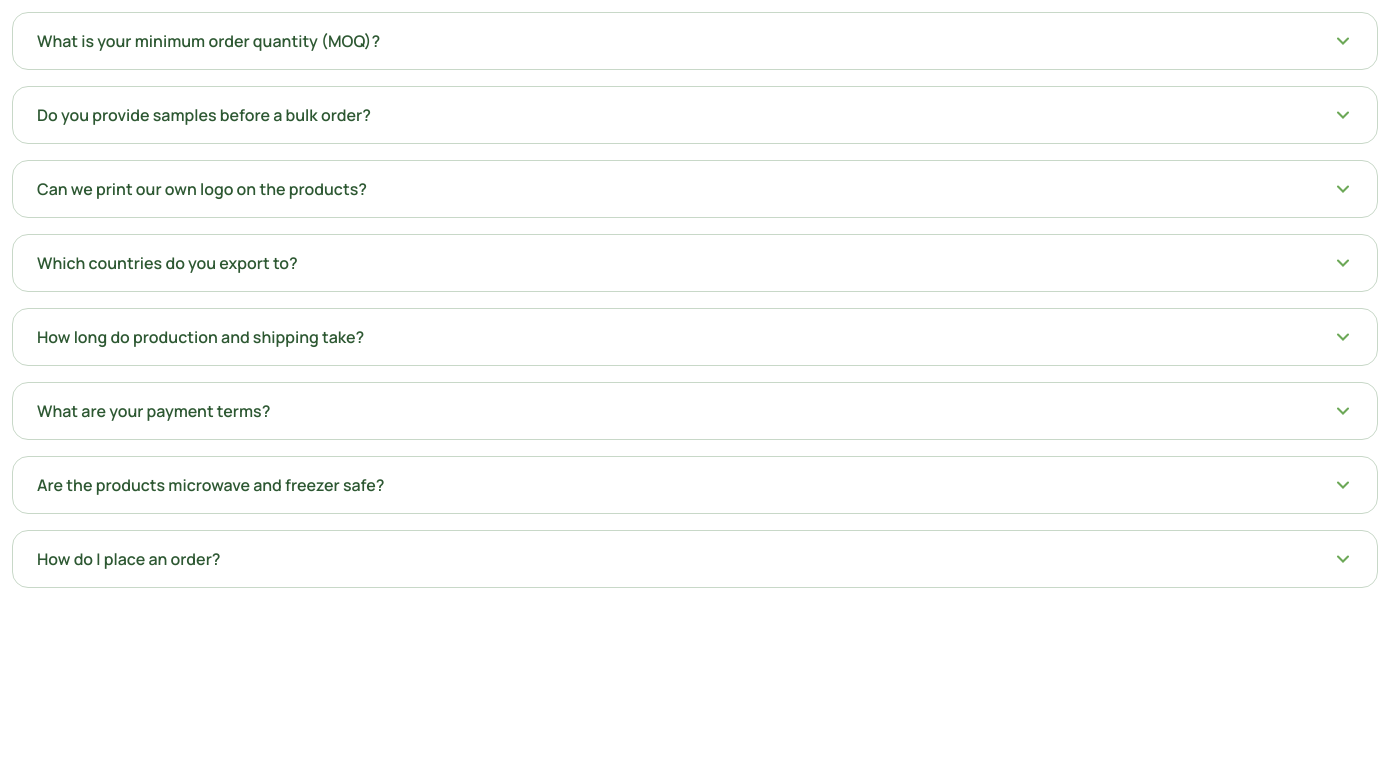
Test: FaqAccordion › reveals the answer when a question is clicked
What coordinates should you click on to do the following:
click the button "What is your minimum order quantity (MOQ)?"
I would click on:
 (209, 41)
Its box is [13,13,1377,69].
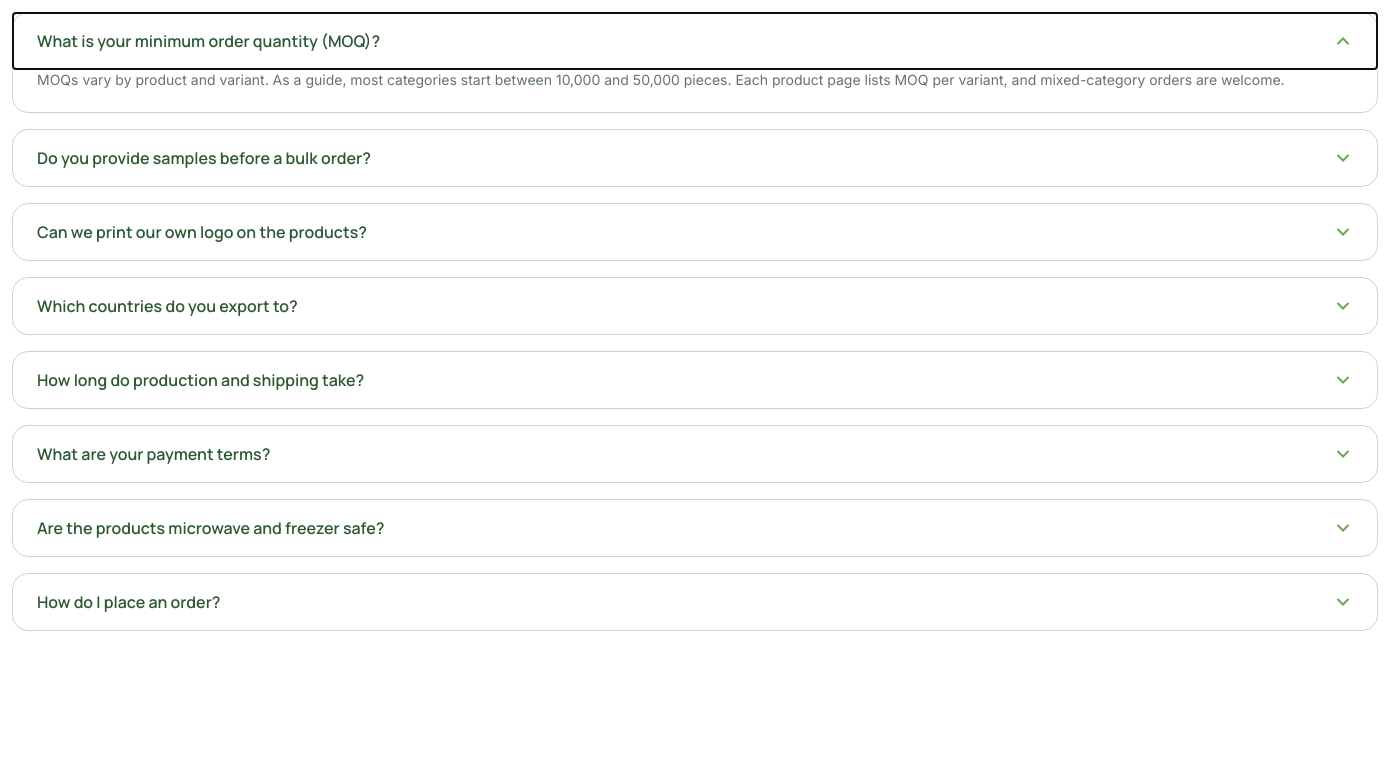
Result: the text "mixed-category orders are welcome" is shown at [37,71,1285,88]
Result: the button "What is your minimum order quantity (MOQ)?" is expanded at [13,13,1377,69]
